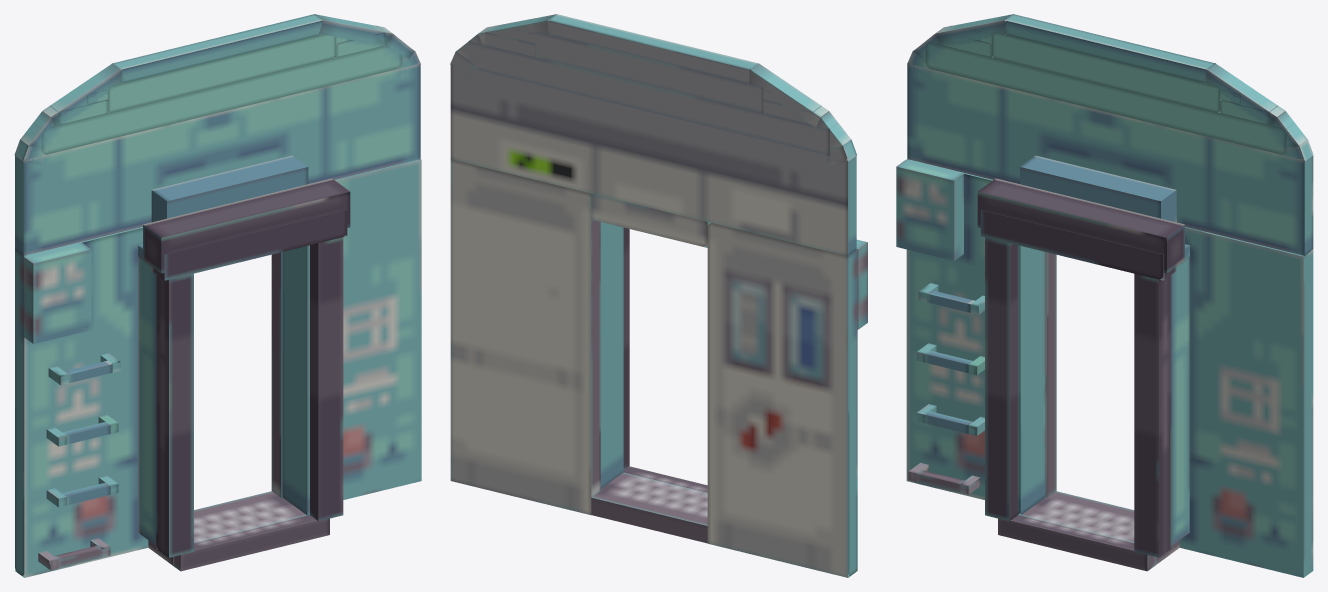
File: end_face_original_25z_2.obj
3 views of the same model, side by side, from view 1: azimuth 30°, elevation 25°; view 2: azimuth 150°, elevation 25°; view 3: azimuth 330°, elevation 25° (orthographic).
Parts seen in each view (by area): view 1: cube; view 2: cube; view 3: cube.
Part boxes in pixels (<box>): cube: <box>14,14,421,577</box>; cube: <box>450,14,867,577</box>; cube: <box>896,14,1313,577</box>.
Size of the model in its own units: 3 by 3.48 by 0.5562.
